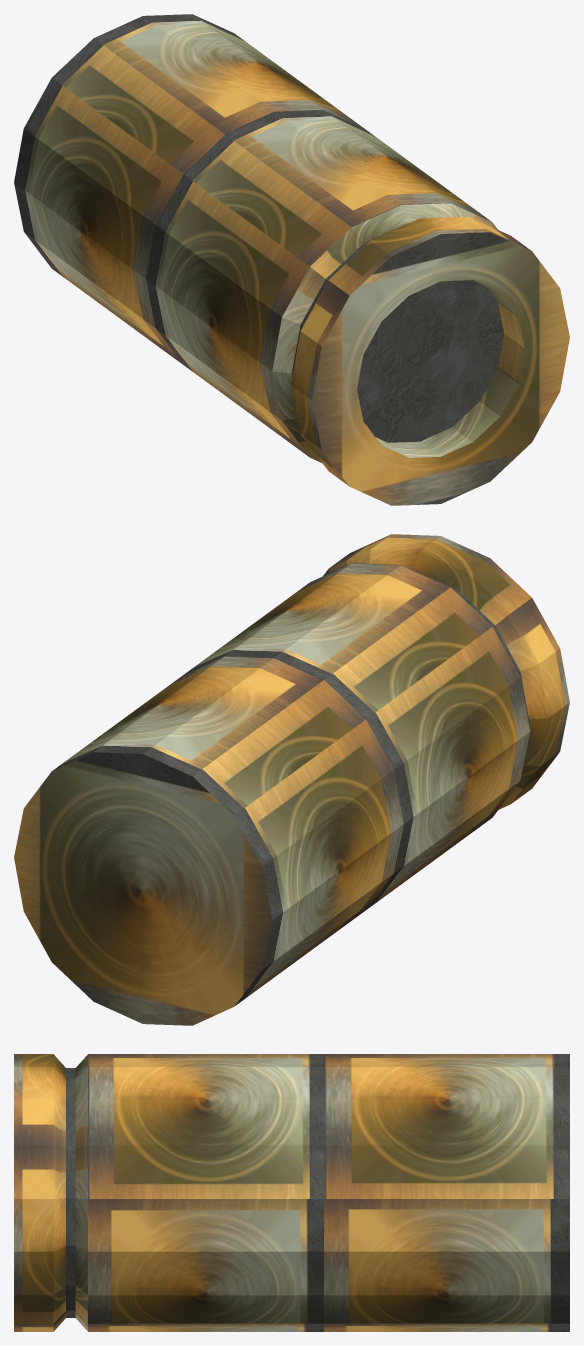
3 views of the same model, one above another, from view 1: azimuth 30°, elevation 25°; view 2: azimuth 150°, elevation 25°; view 3: azimuth 270°, elevation 25° (orthographic). The views are drawn at different scales.
Parts seen in each view (by area): view 1: Cube_Cube_None_QuartoPieces.png; view 2: Cube_Cube_None_QuartoPieces.png; view 3: Cube_Cube_None_QuartoPieces.png.
Boxes of the visible parts, box(x1,y1,x2,y2) form: Cube_Cube_None_QuartoPieces.png: box(14, 14, 569, 505); Cube_Cube_None_QuartoPieces.png: box(14, 534, 569, 1025); Cube_Cube_None_QuartoPieces.png: box(14, 1054, 569, 1331).
Bounding box in the file's own units: 2 × 2 × 4.
